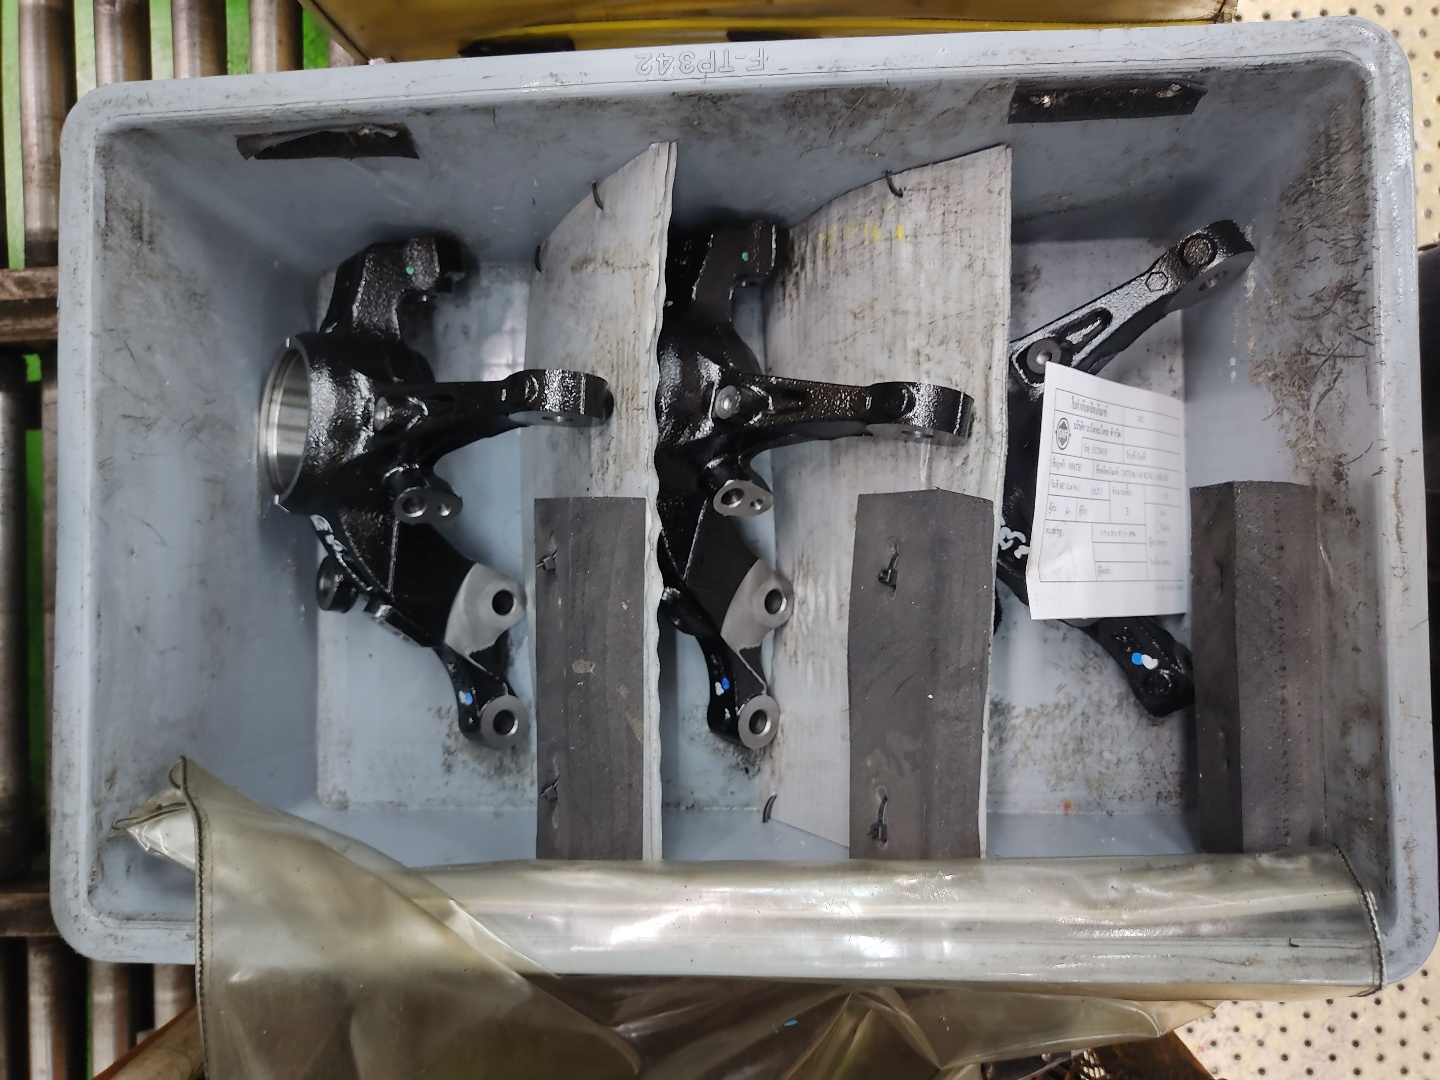abs-rh: (249, 216, 615, 773), (644, 199, 975, 773), (985, 202, 1261, 753)
